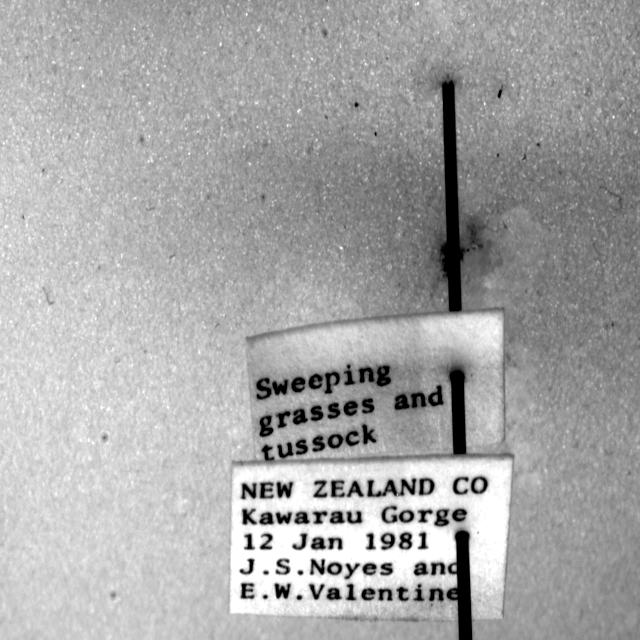typed_label: (230, 456, 512, 621), (246, 309, 505, 461)
